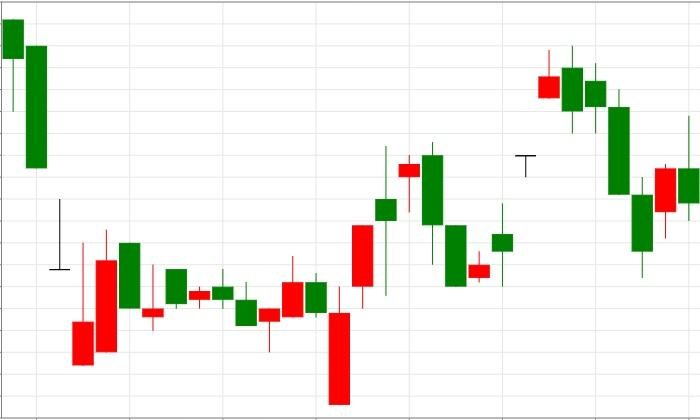bearish_engulfing_fall: (444, 45, 584, 288), (327, 141, 444, 405)
three_black_crows_fall: (445, 46, 653, 288)
